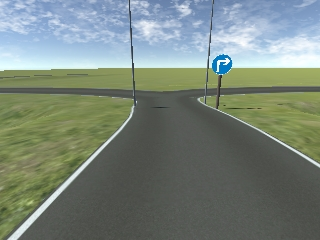right: (212, 55, 233, 74)
